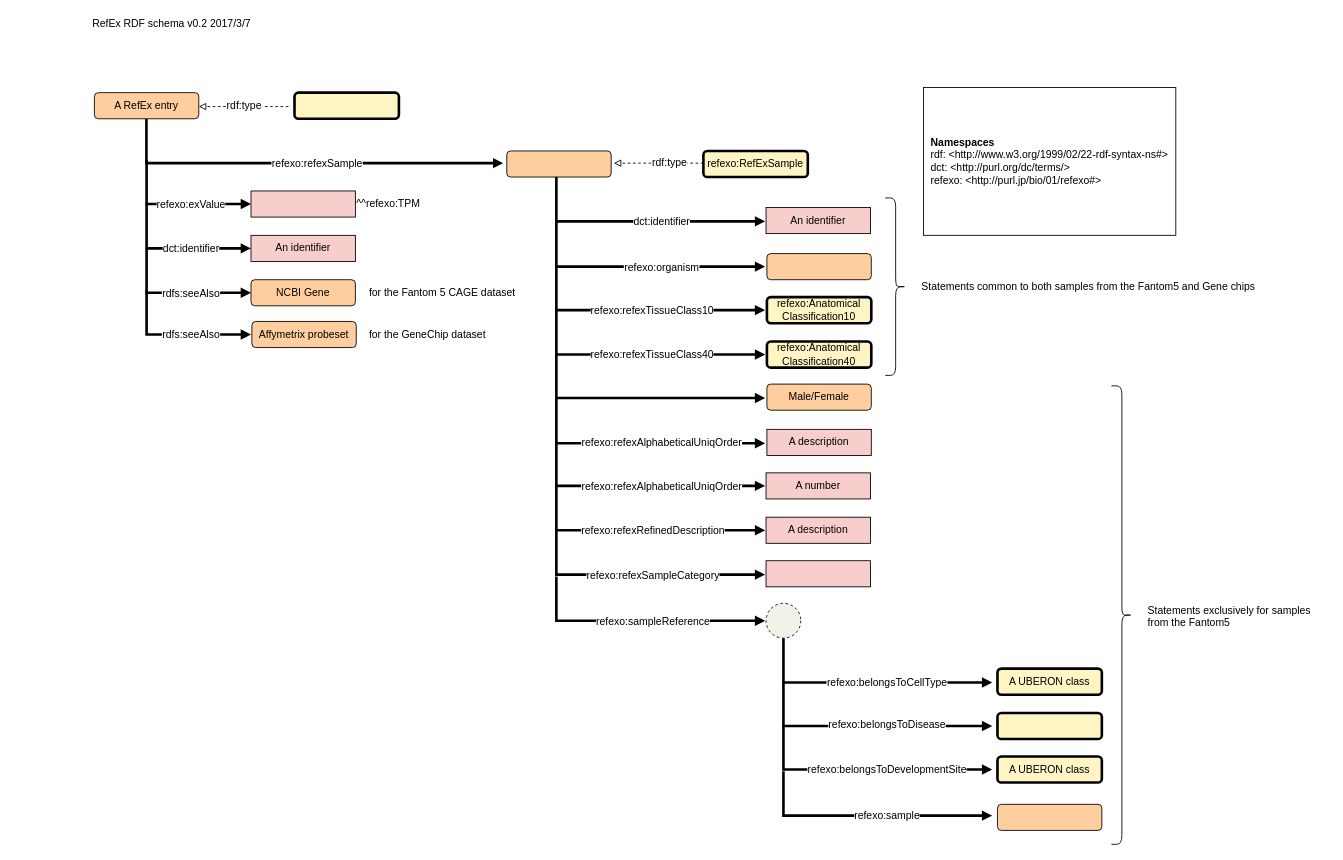
The diagram is 1343 pixels wide and 860 high, and some of its shapes have lost their labels. Here are the shapes that lost their labels. From the top down, the box of each, then its label:
(293, 91, 400, 120): refexo:RefExEntry
(506, 150, 611, 177): A RefEx Sample
(250, 190, 355, 217): An expression Value
(766, 253, 871, 280): A taxonomy ID
(765, 560, 870, 587): A category
(996, 711, 1103, 740): A Cell Ontology
(997, 803, 1102, 830): A BioSample entry
